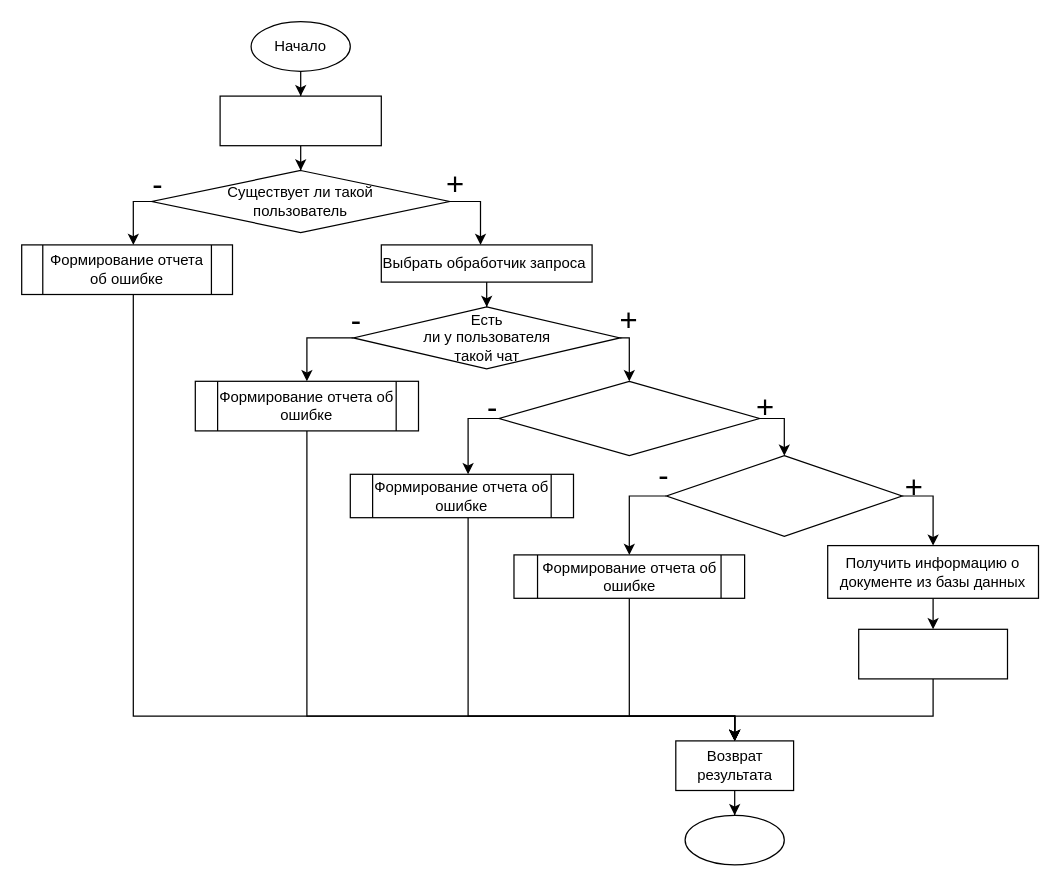
Some shapes in this 1060 by 887 pixel diagram are drawn without their labels. The shapes that lost their labels are listed below. From the top down, each one's centre as x and y in pixels, then its label:
At [300,120]: "Разбор строки запроса".
At [629,418]: "Есть ли в чате такое сообщение".
At [783,495]: "Есть ли у сообщения такой документ".
At [932,653]: "Сформировать тело ответа".
At [734,839]: "Конец".
